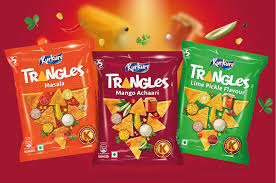kurkure: (122, 62, 157, 78), (33, 56, 81, 67), (209, 57, 239, 71)
plastic: (9, 53, 252, 156)
wrapper: (8, 49, 97, 150), (190, 41, 255, 156), (101, 57, 167, 163)
